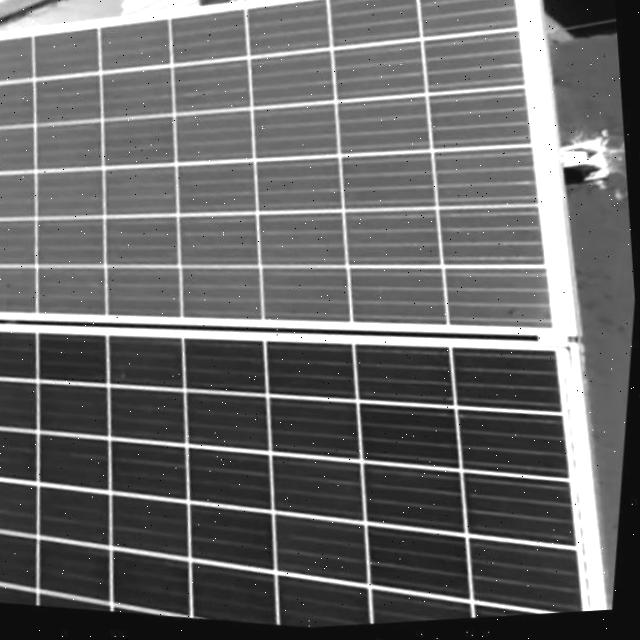Normal Solar Panel: (0, 277, 629, 640)
